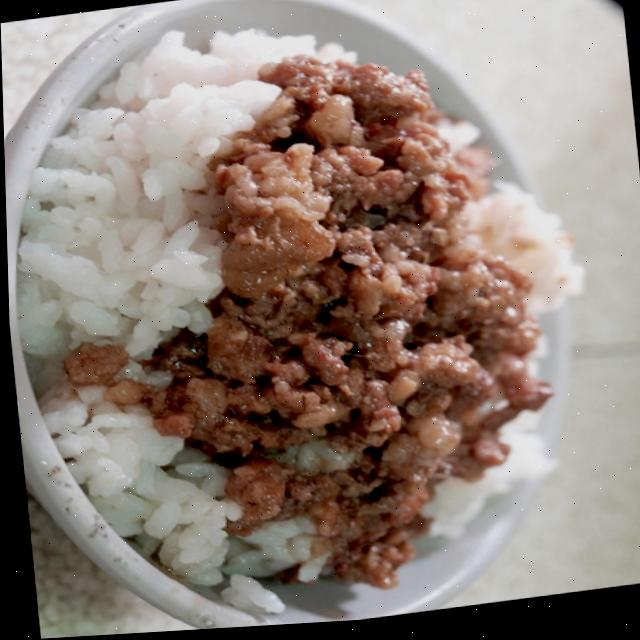猪肉菜式: (14, 0, 588, 623)
